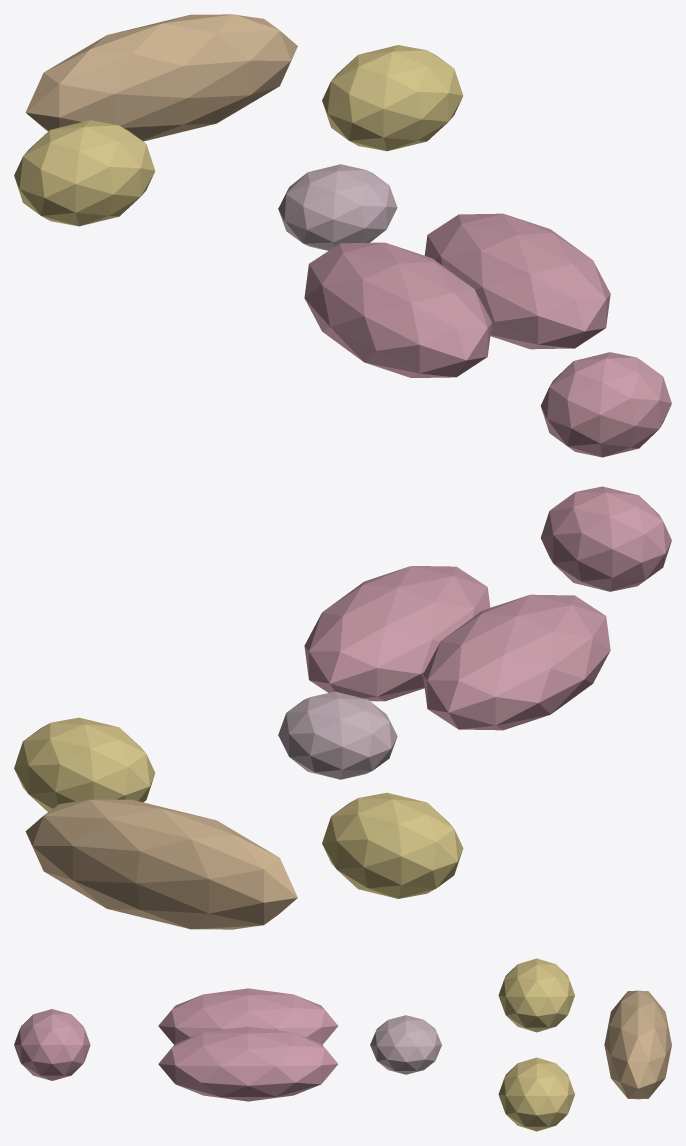
The model's file is endocrine-g3-low.glb.
3 renders of one model, top to bottom at view 1: azimuth 30°, elevation 25°; view 2: azimuth 150°, elevation 25°; view 3: azimuth 270°, elevation 25°, orthographic. The views are drawn at different scales.
Parts seen in each view (by area): view 1: pancreas_proxy, thyroid_left, thyroid_right, right_adrenal, left_adrenal, pituitary_proxy, thymus_proxy; view 2: pancreas_proxy, thyroid_left, thyroid_right, left_adrenal, pituitary_proxy, right_adrenal, thymus_proxy; view 3: thyroid_right, thyroid_left, pancreas_proxy, right_adrenal, left_adrenal, pituitary_proxy, thymus_proxy.
Part boxes in pixels (x1,y1,x2,y2): pancreas_proxy: (25, 14, 297, 141); thyroid_left: (304, 242, 492, 377); thyroid_right: (424, 213, 610, 349); right_adrenal: (322, 45, 463, 151); left_adrenal: (14, 120, 155, 226); pituitary_proxy: (541, 352, 671, 457); thymus_proxy: (278, 164, 397, 250); pancreas_proxy: (25, 799, 297, 929); thyroid_left: (423, 594, 610, 730); thyroid_right: (304, 566, 490, 701); left_adrenal: (322, 792, 463, 898); pituitary_proxy: (541, 486, 671, 591); right_adrenal: (14, 717, 155, 811); thymus_proxy: (278, 691, 397, 779); thyroid_right: (158, 1026, 337, 1101); thyroid_left: (158, 988, 337, 1044); pancreas_proxy: (604, 990, 671, 1099); right_adrenal: (498, 1057, 574, 1131); left_adrenal: (498, 958, 574, 1032); pituitary_proxy: (14, 1009, 90, 1080); thymus_proxy: (370, 1015, 441, 1074).
Bounding box in the file's own units: 1.48 × 0.36 × 2.92.
